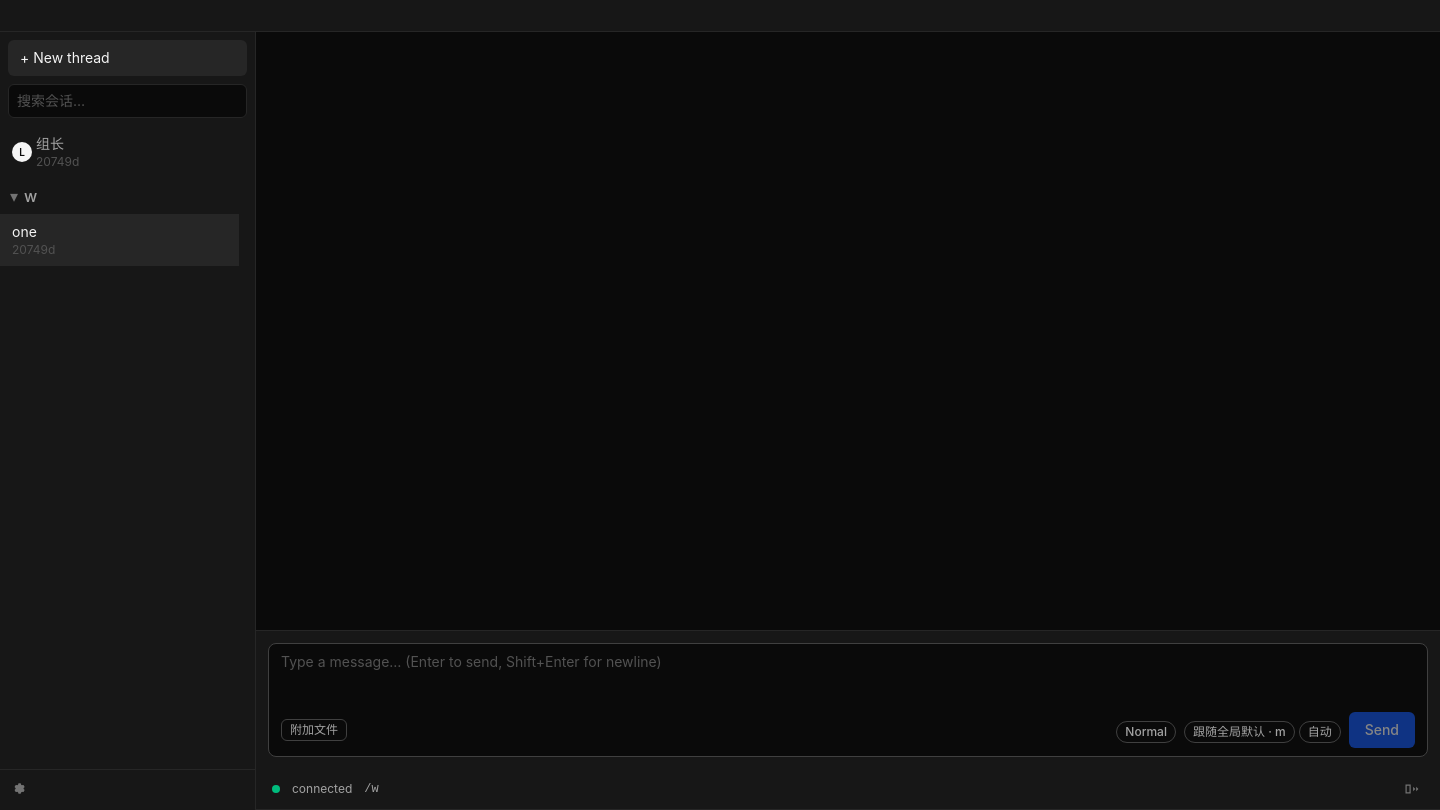
Test: App YOLO wiring › requests thread/setPermissionMode with the right params and applies it on success
Click the button with aria-label "mode". click: x=1146, y=732
box: [1116,720,1176,742]
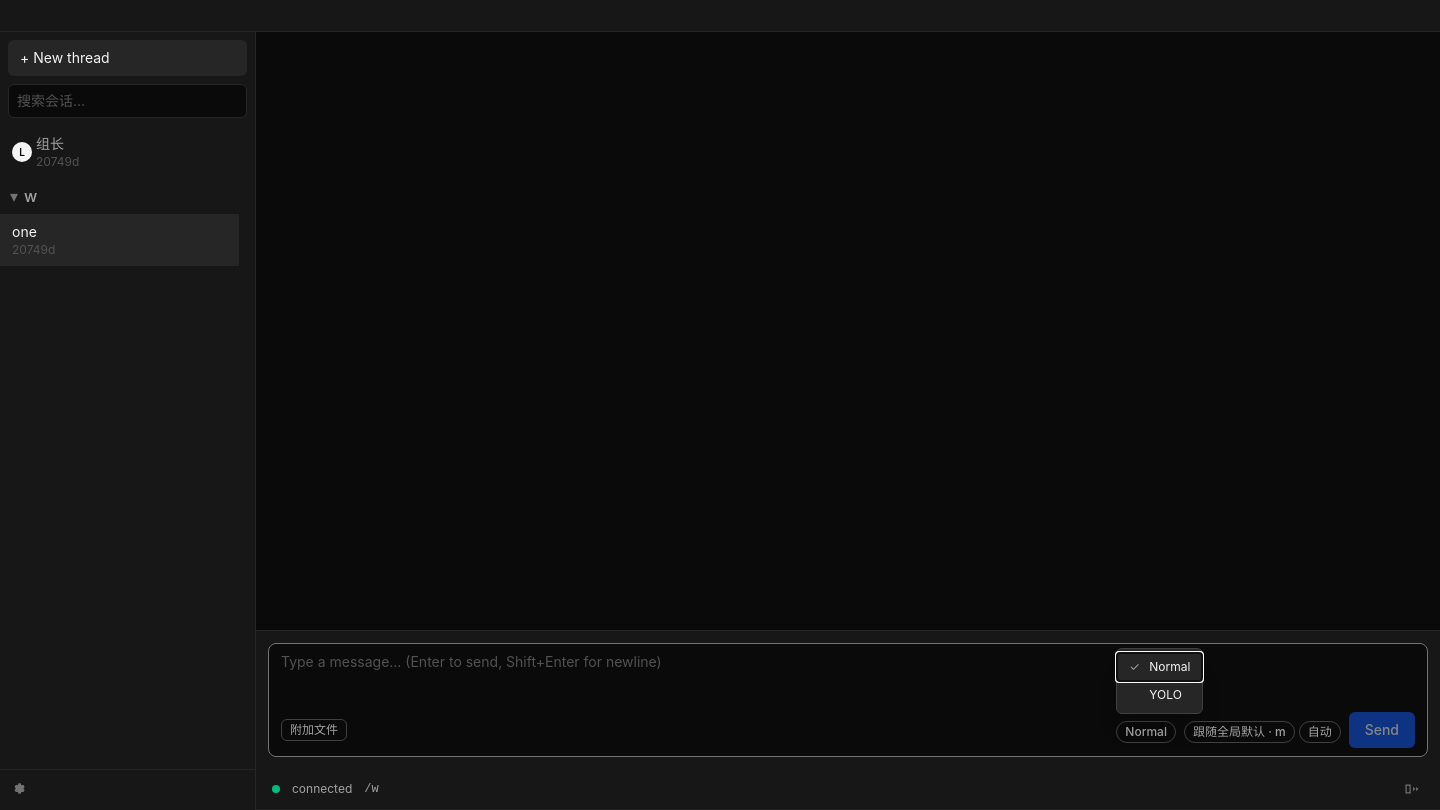
Click the menu item "YOLO". click: x=1160, y=694
box: [1117,680,1202,708]
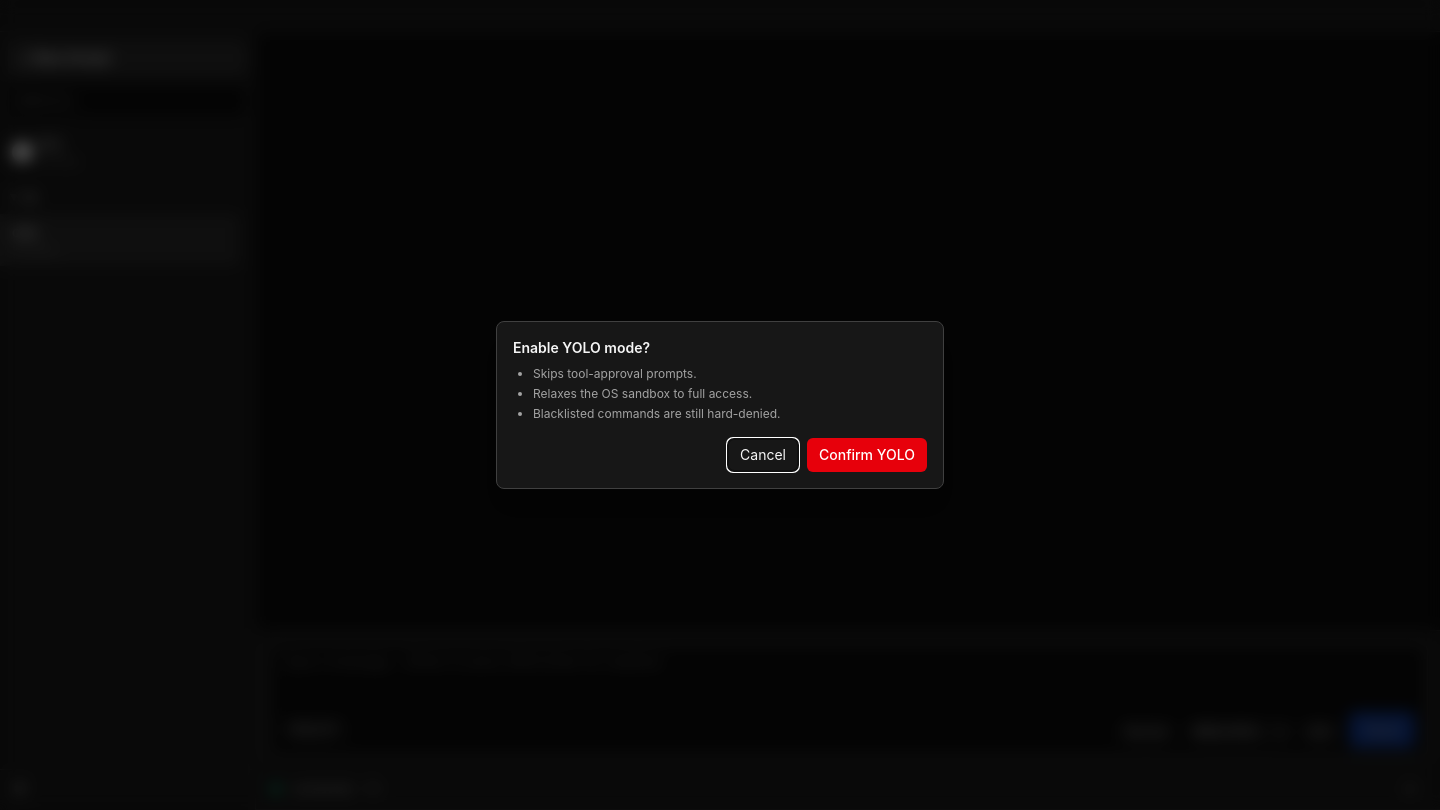
Click the button "Confirm YOLO". click: x=867, y=455
box: [807,438,927,472]
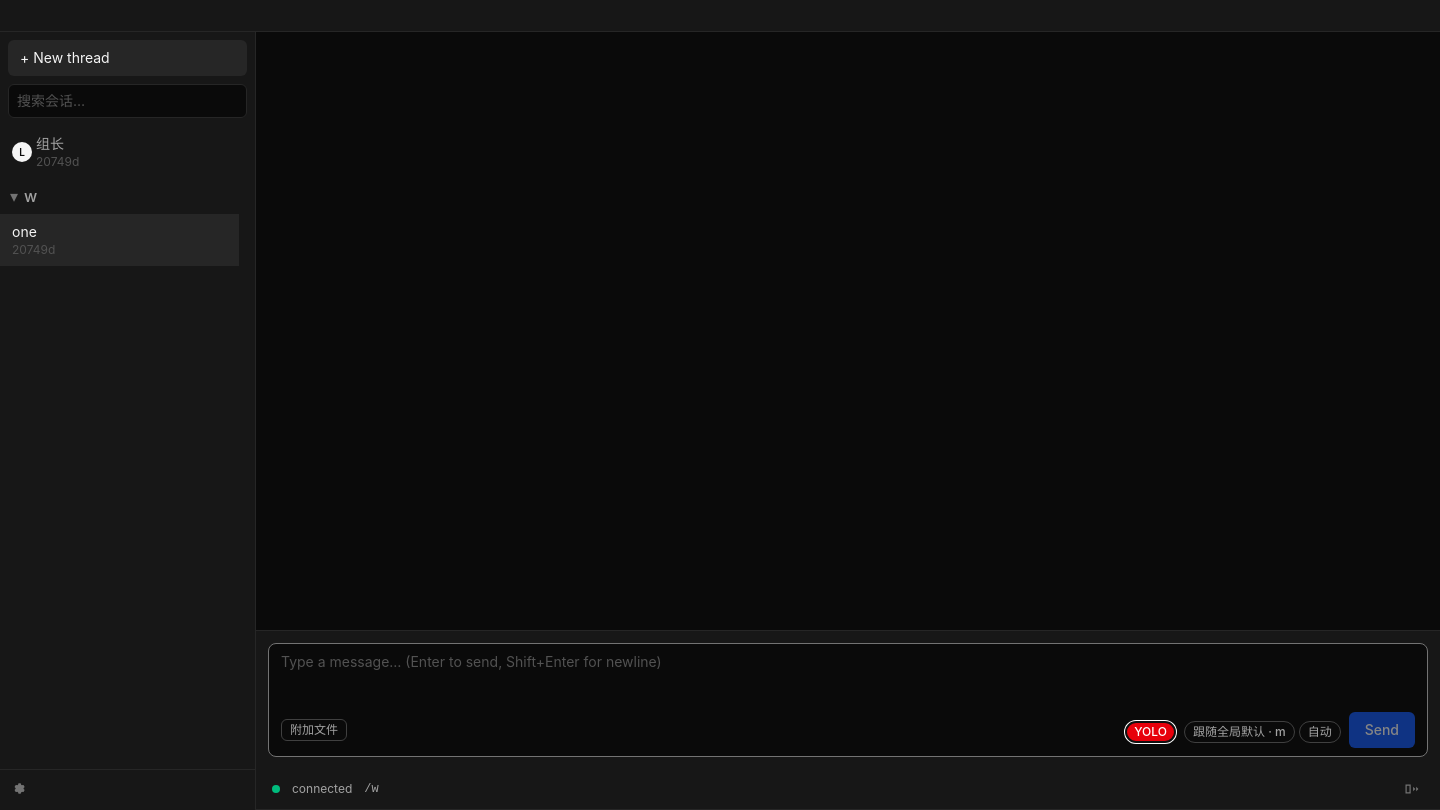
Result: the button with aria-label "mode" reads "YOLO" at [1125,720,1176,742]
